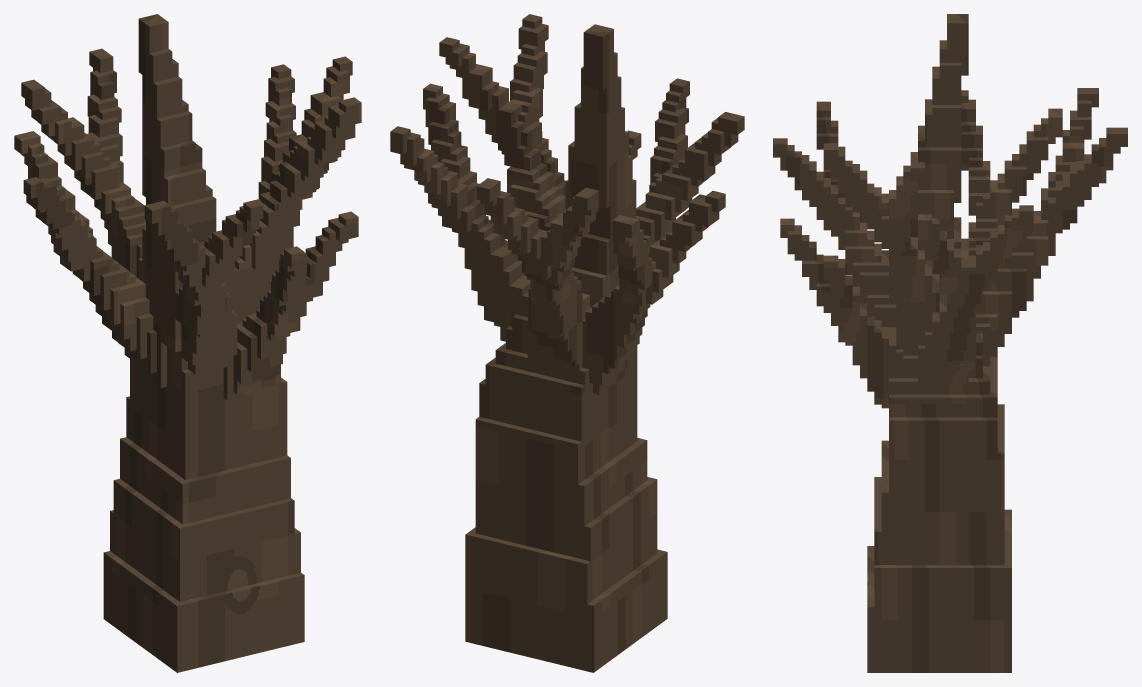
The model's file is oak_ancient_winter_3.glb.
The picture shows the model from 3 angles, left to right: view 1: azimuth 30°, elevation 25°; view 2: azimuth 150°, elevation 25°; view 3: azimuth 270°, elevation 25°; orthographic projection. The views are drawn at different scales.
Parts seen in each view (by area): view 1: VoxelVisual; view 2: VoxelVisual; view 3: VoxelVisual.
Part boxes in pixels (left/top/right/bottom): VoxelVisual: left=14, top=14, right=361, bottom=672; VoxelVisual: left=390, top=14, right=744, bottom=672; VoxelVisual: left=773, top=14, right=1127, bottom=672.
Size of what is drawn, in the model's own units: 12.25 by 23 by 12.25.
